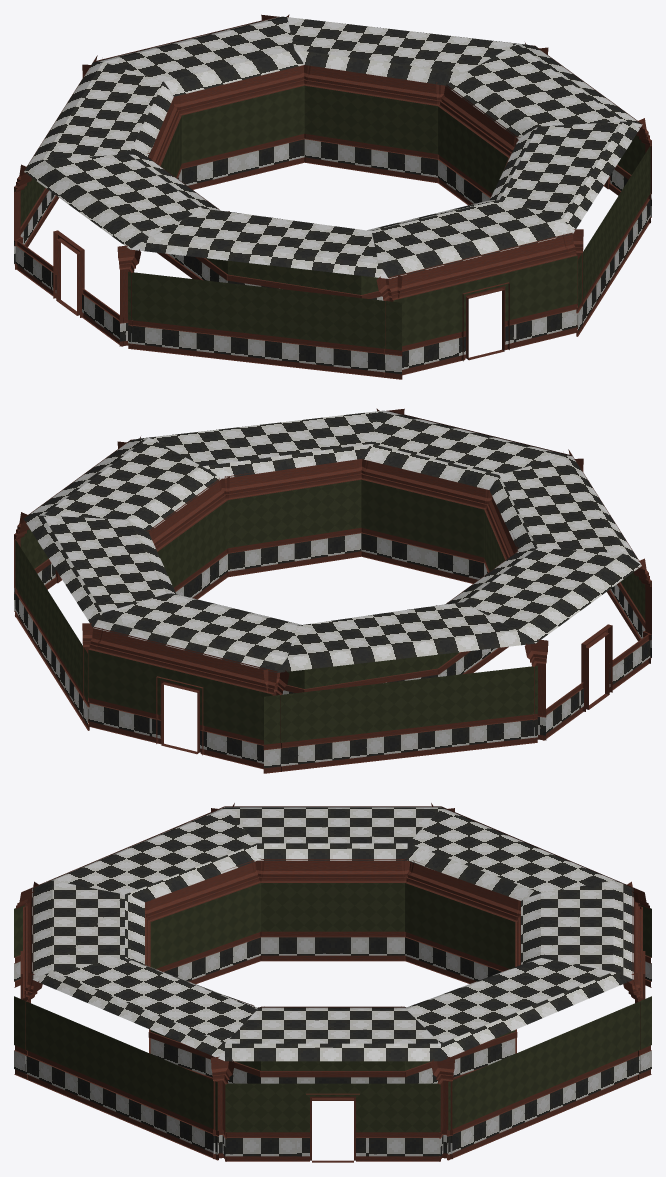
Rendered from Room_9.fbx.
3 renders of one model, top to bottom at view 1: azimuth 30°, elevation 25°; view 2: azimuth 150°, elevation 25°; view 3: azimuth 270°, elevation 25°, orthographic.
Parts seen in each view (by area): view 1: Plane.037; view 2: Plane.037; view 3: Plane.037.
Boxes of the visible parts, bbox=[...] form: Plane.037: bbox=[14, 14, 651, 379]; Plane.037: bbox=[14, 408, 651, 773]; Plane.037: bbox=[14, 803, 651, 1162].
Size of the model in its own units: 1734 by 320 by 1771.
